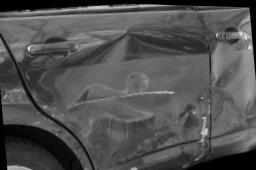Door: (21, 17, 256, 162)
